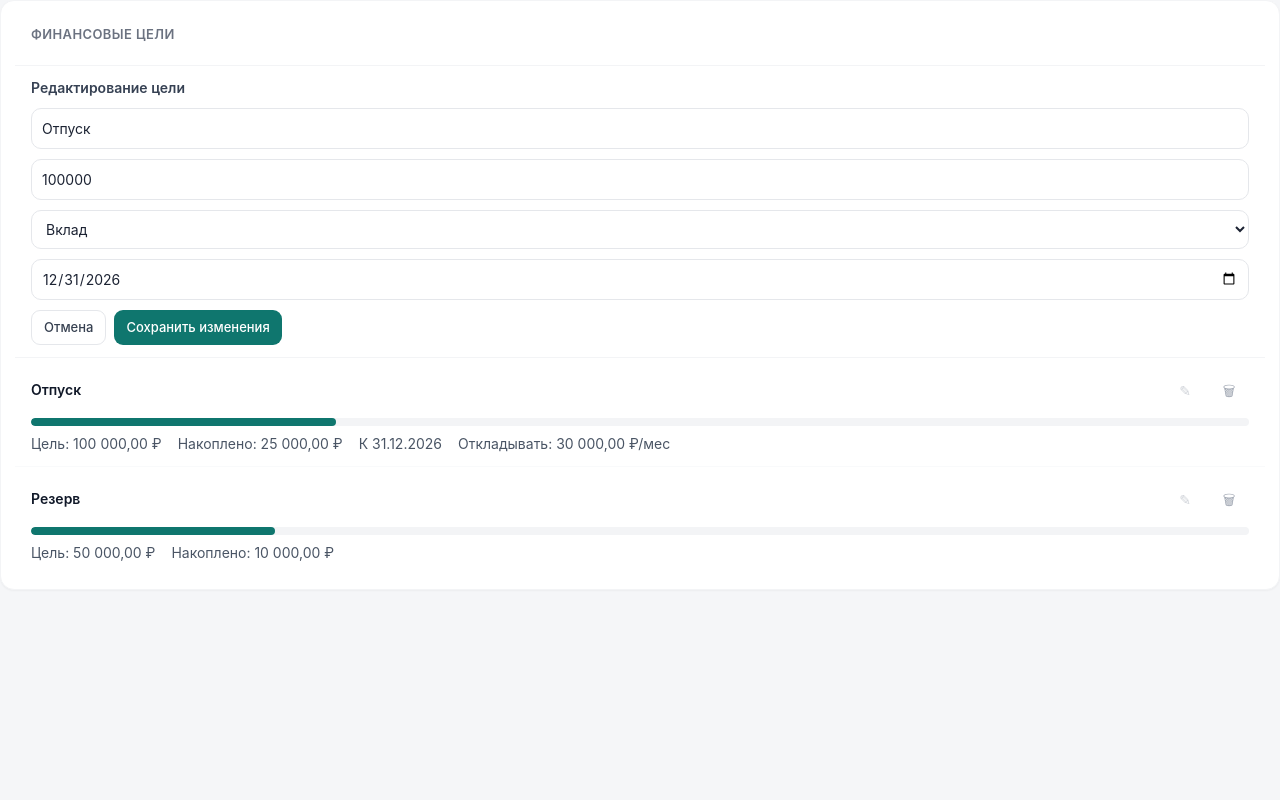
Test: GoalsComponent › не_обновляет_цель_при_нулевой_сумме_и_показывает_ошибку_в_форме
Replace the text in the number field named "Целевая сумма" with "0": [640, 179] box [31,158,1249,200]
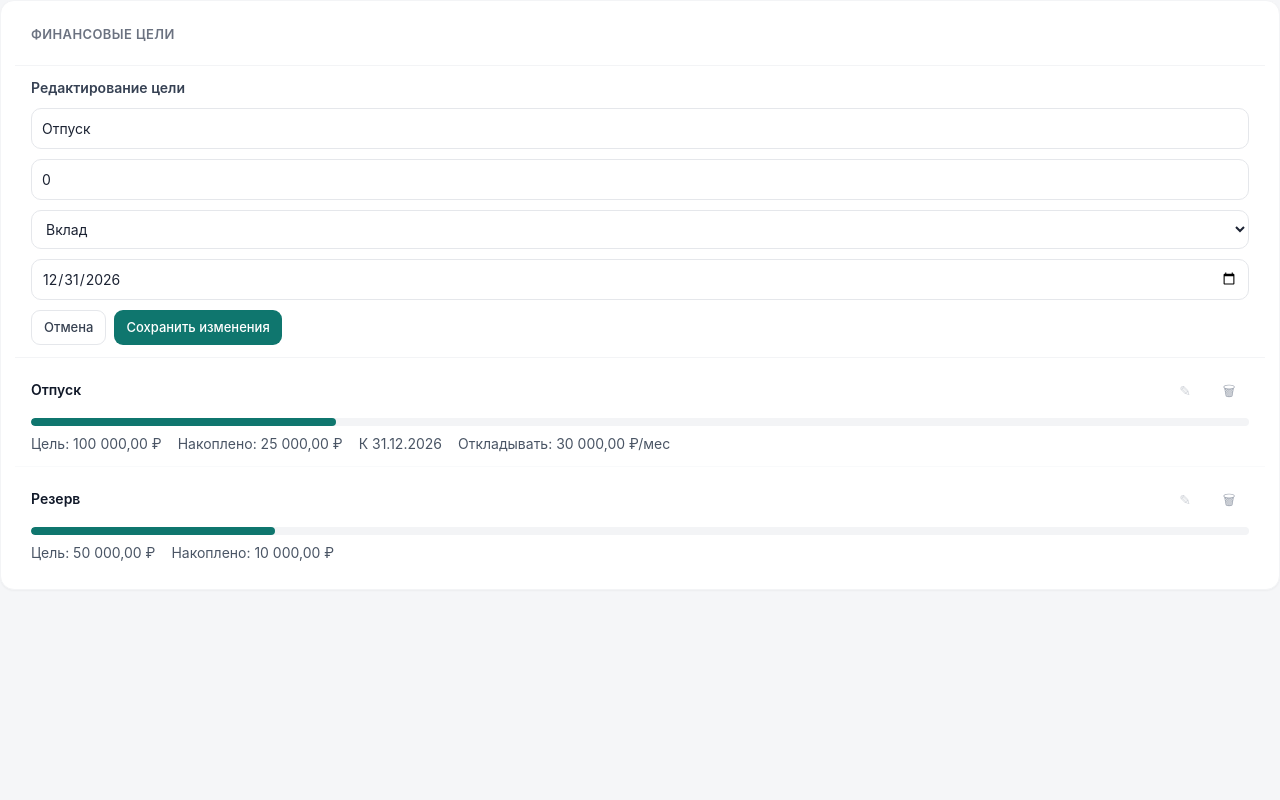
Click the button "Сохранить изменения": [198, 327] box [114,310,282,345]
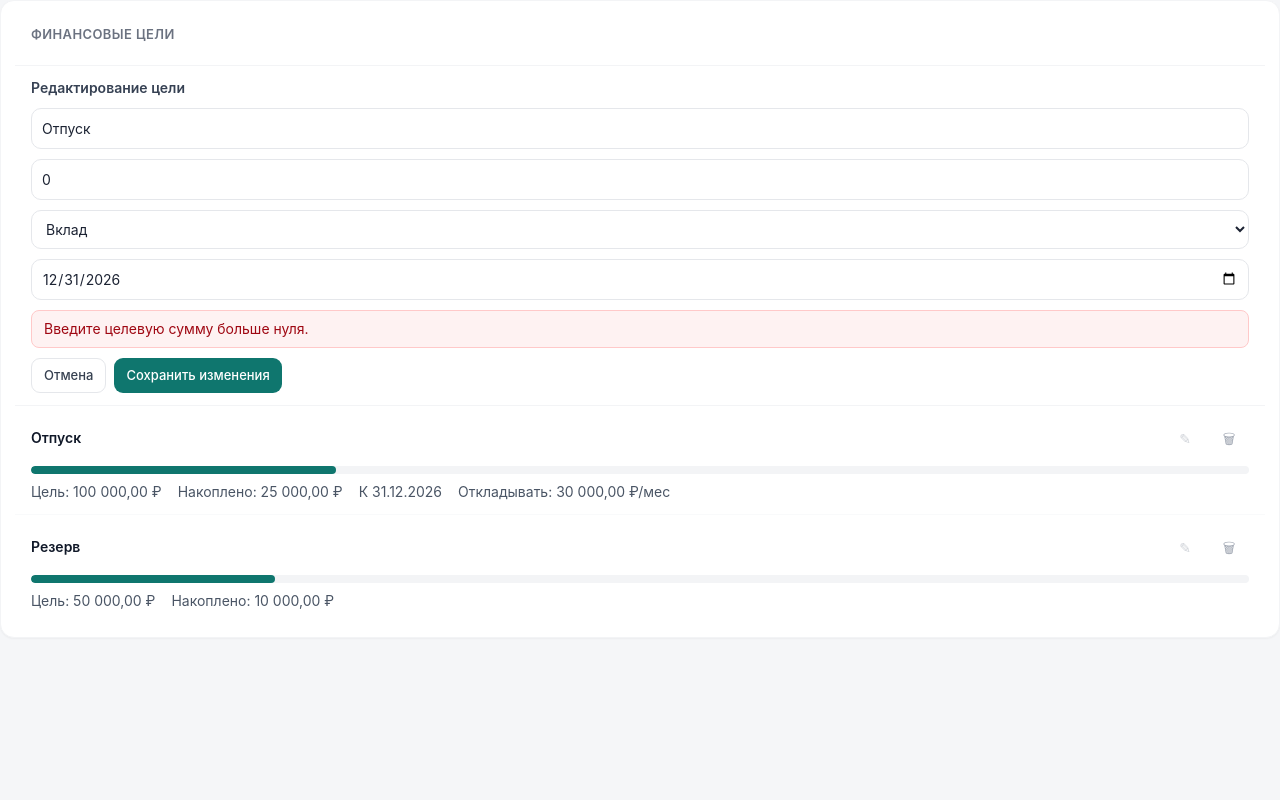
Now the message "Введите целевую сумму больше нуля." is shown, box [31,310,1249,348]
